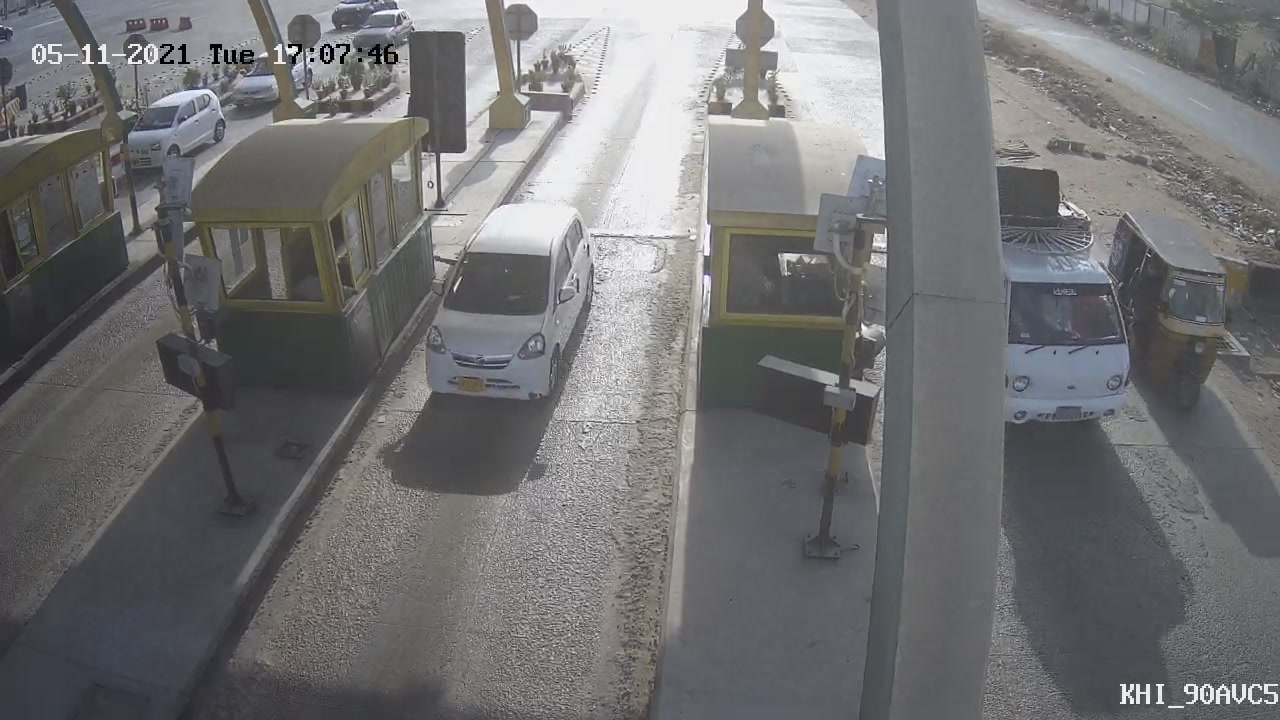F1: (395, 186, 614, 424)
